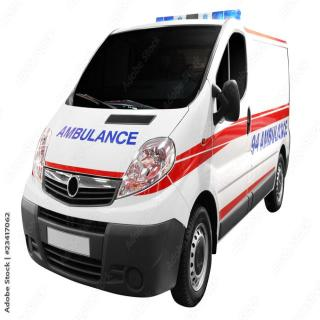Ambulance: (19, 8, 297, 300)
